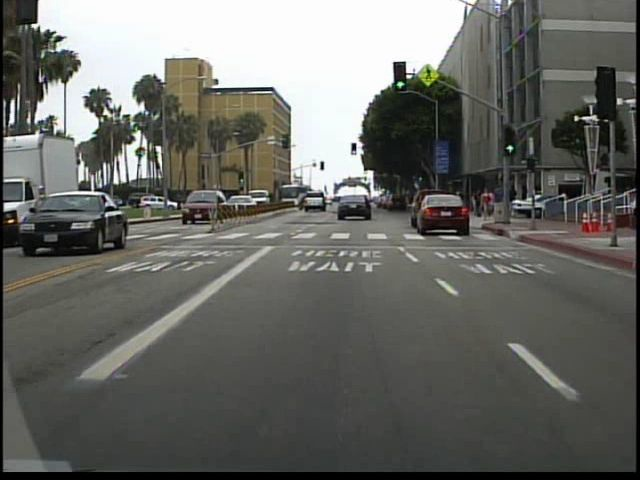person: (477, 186, 493, 224), (493, 182, 506, 219), (504, 183, 517, 217)
